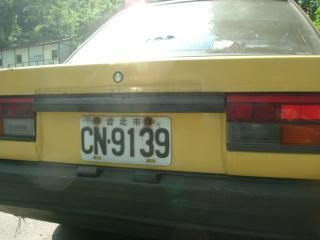plate: (77, 113, 175, 166)
